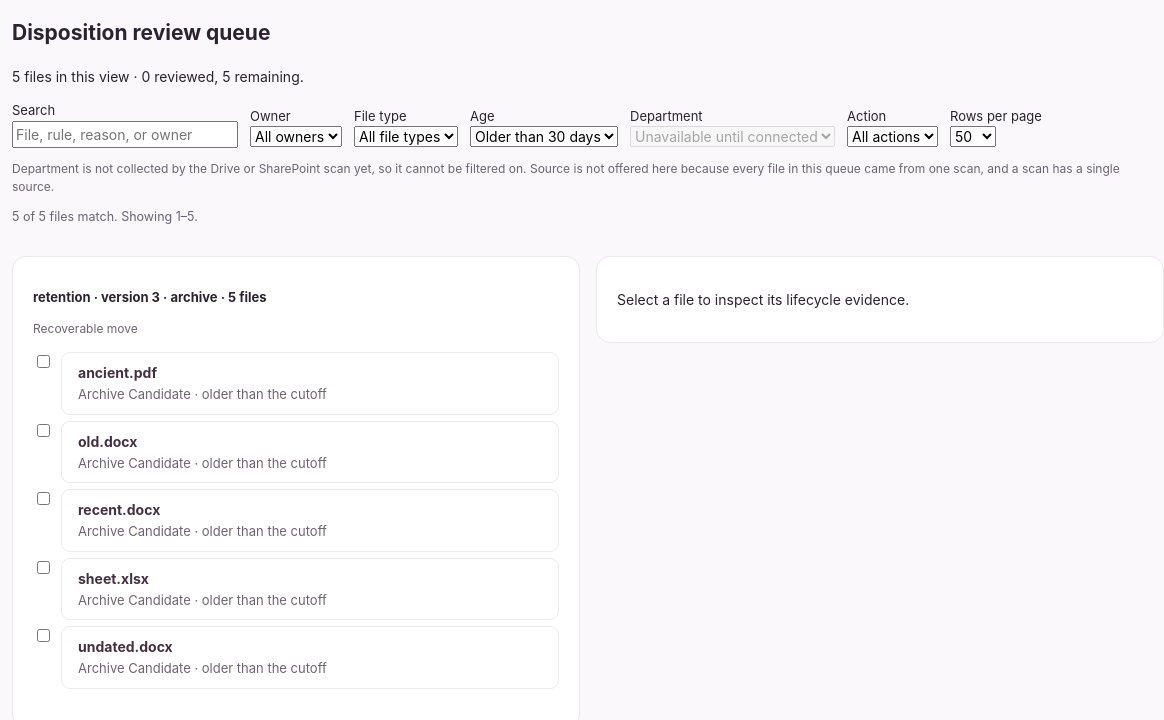
Scenario: age › excludes an undated file rather than treating it as new
Select "Older than 30 days" in the dropdown labelled "Age": coordinates (544, 137) 470,126 -> 618,147
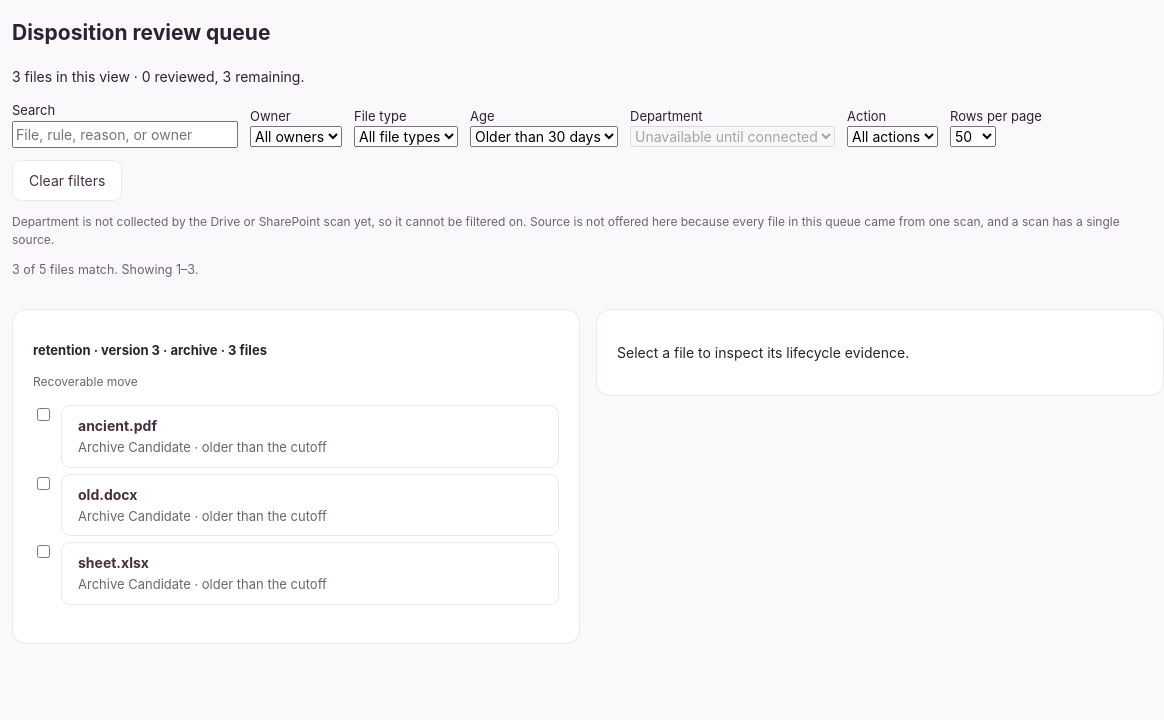
Expected: the text "undated.docx" is gone
Expected: the text "3 files in this view" is shown, 12,68 -> 304,85
